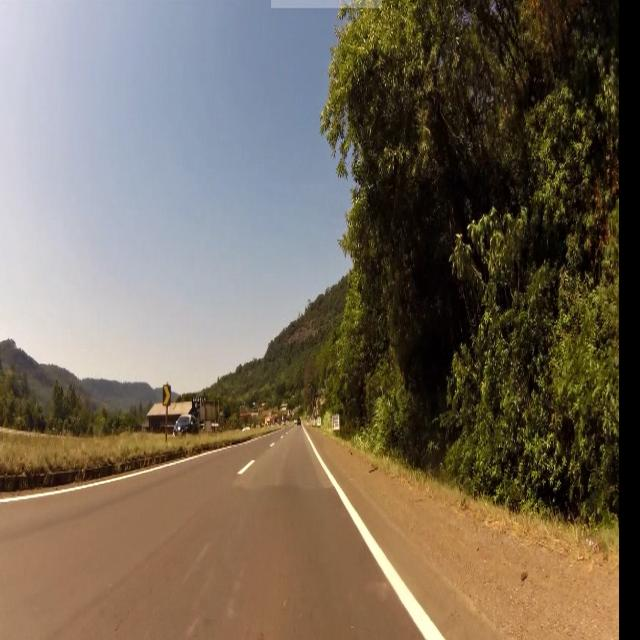Del: (163, 386, 171, 406)
